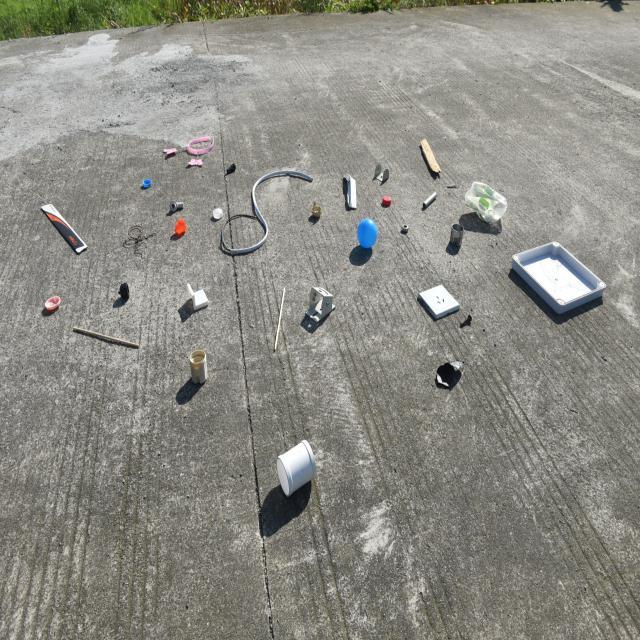Debris: (502, 238, 611, 316), (30, 196, 89, 262), (270, 438, 327, 497), (222, 208, 275, 255), (70, 325, 148, 356), (458, 179, 508, 227), (156, 138, 217, 173), (298, 287, 338, 337), (270, 276, 292, 362), (181, 346, 224, 390), (413, 282, 464, 315), (174, 290, 222, 322), (335, 168, 366, 213), (113, 222, 150, 256), (421, 129, 441, 182), (358, 218, 384, 258), (32, 292, 72, 316), (435, 358, 478, 378), (444, 218, 476, 244), (115, 280, 139, 306), (369, 158, 393, 182), (225, 155, 243, 184), (206, 203, 228, 226), (309, 204, 331, 226), (159, 199, 191, 214), (170, 220, 191, 242), (456, 315, 479, 333), (135, 178, 158, 194), (422, 189, 435, 215), (443, 180, 461, 194), (380, 195, 394, 210), (398, 218, 410, 233)
